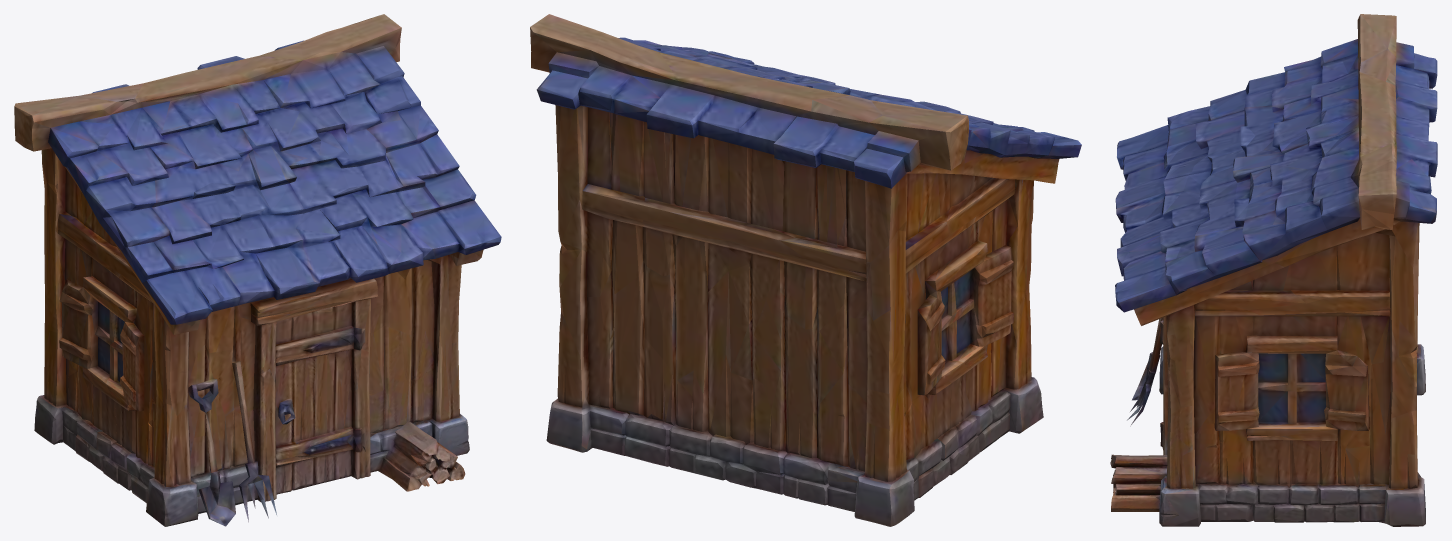
File: oc_shed.glb
3 views of the same model, side by side, from view 1: azimuth 30°, elevation 25°; view 2: azimuth 150°, elevation 25°; view 3: azimuth 270°, elevation 25° (orthographic). The views are drawn at different scales.
Visible parts, largest first — view 1: W_shed; view 2: W_shed; view 3: W_shed.
Boxes of the visible parts, x1,y1,x2,y2 form: W_shed: [14, 14, 501, 526]; W_shed: [530, 14, 1081, 526]; W_shed: [1110, 14, 1437, 526].
Size of the model in its own units: 3.55 by 3.2 by 2.72.
1 material, 1 textured.
